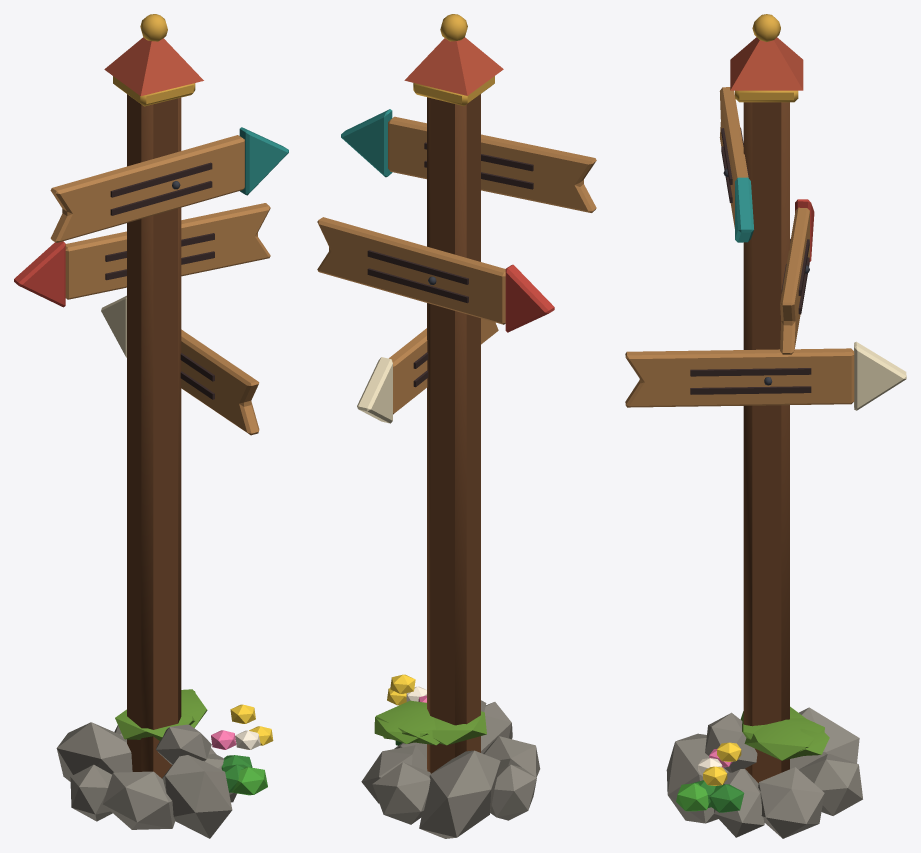
Rendered from prop_signpost.glb.
3 renders of one model, left to right at view 1: azimuth 30°, elevation 25°; view 2: azimuth 150°, elevation 25°; view 3: azimuth 270°, elevation 25°, orthographic.
Parts seen in each view (by area): view 1: Signpost; view 2: Signpost; view 3: Signpost.
Boxes of the visible parts, box(x1,y1,x2,y2) form: Signpost: box(14, 14, 288, 838); Signpost: box(317, 14, 596, 838); Signpost: box(625, 14, 906, 838).
Size of what is drawn, in the model's own units: 0.9894 by 3.08 by 0.9772.
